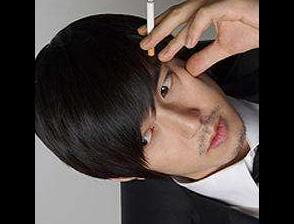Cigarette: (37, 0, 259, 224), (145, 0, 156, 55)
